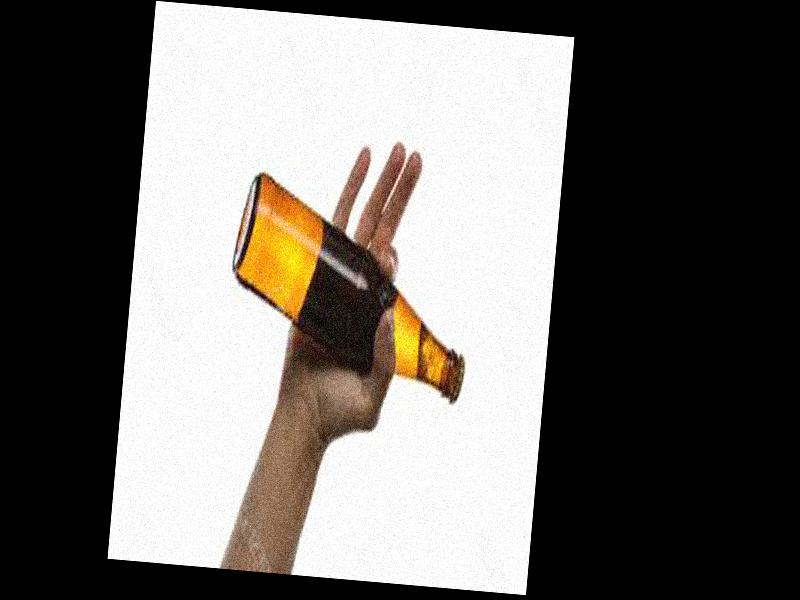Beer: (224, 177, 474, 399)
